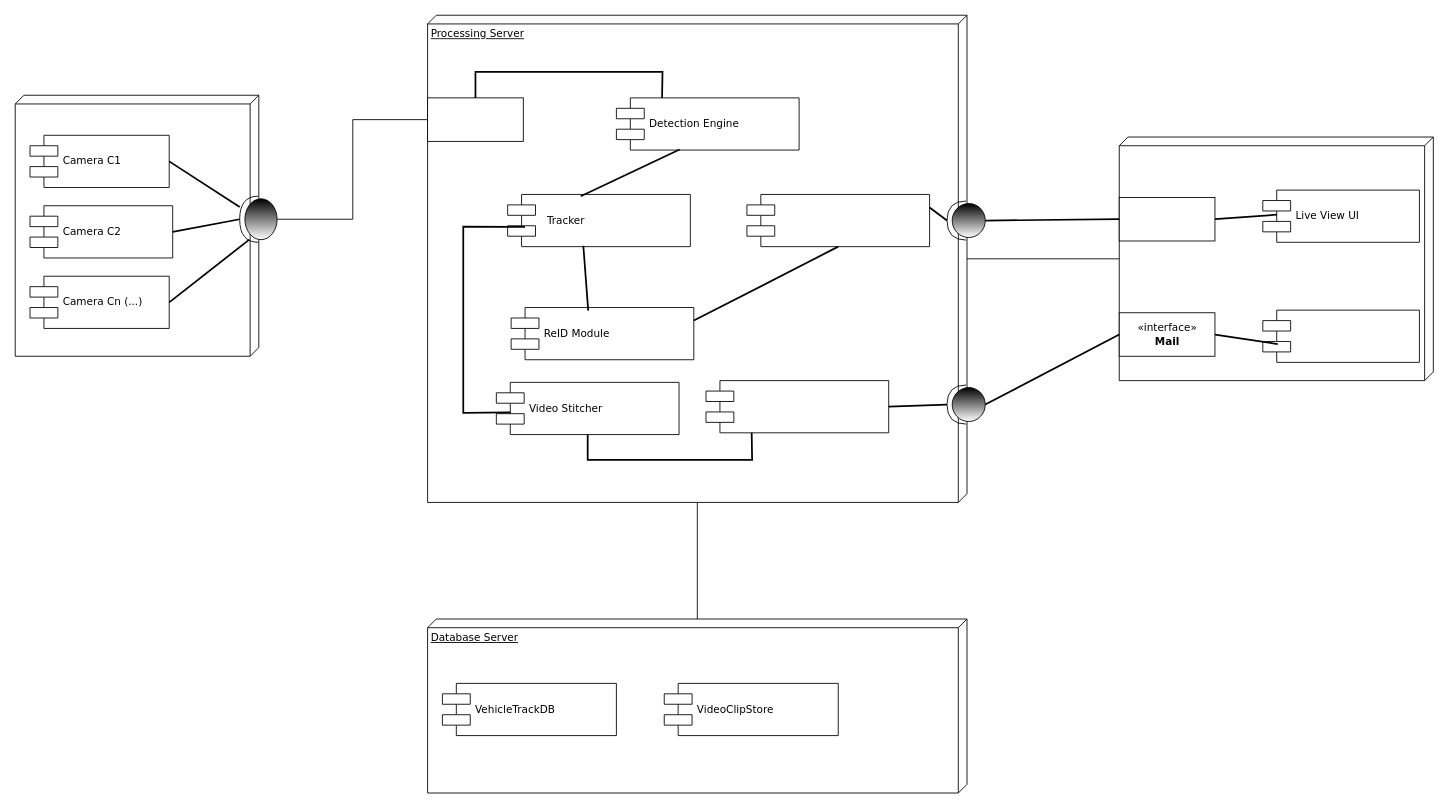
The diagram is 1449 pixels wide and 808 high, and some of its shapes have lost their labels. Here are the shapes that lost their labels. From the top down, the box of each, then its label:
(427, 97, 523, 141): «interface» Input
(14, 94, 259, 356): Camera Network
(746, 194, 930, 247): Camera Switching Engine
(1118, 197, 1215, 241): «interface» LiveFeed
(1118, 136, 1433, 381): Output and Delivery
(1262, 309, 1419, 362): Video Recipient
(705, 380, 889, 433): Email Delivery Service
